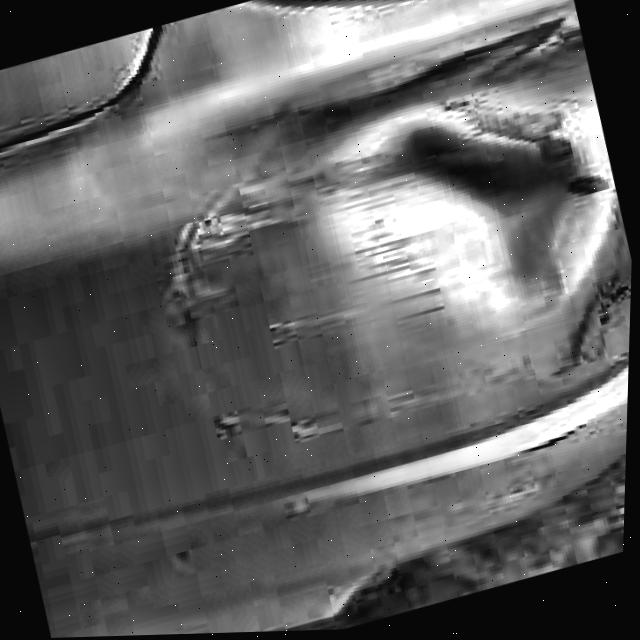bumper_dent: (301, 65, 638, 380)
